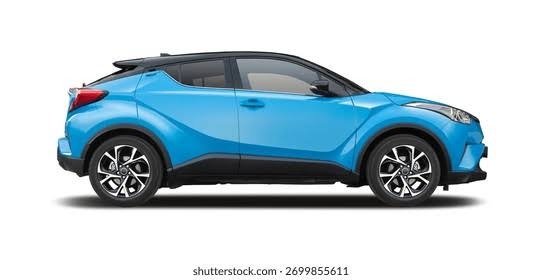car: (44, 51, 498, 202), (49, 55, 482, 195)
